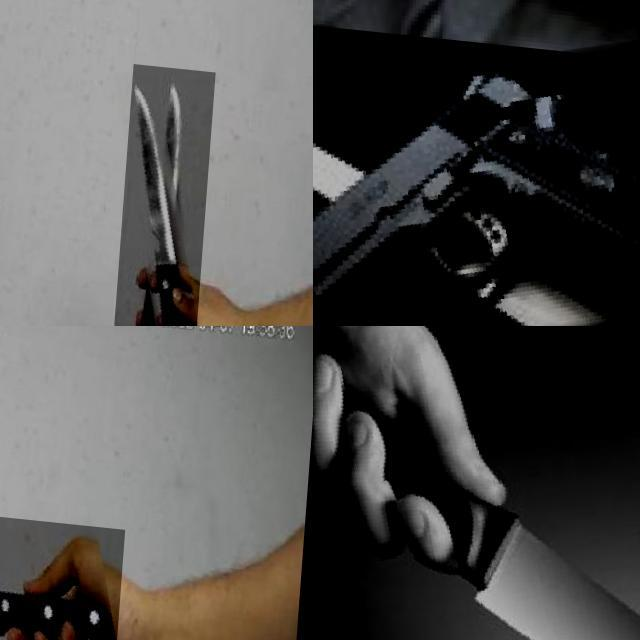-: (313, 326, 640, 640), (118, 57, 220, 326), (0, 500, 129, 640)
gun-knife-thesis - v11 Yolov5 augmented: (313, 8, 640, 326)
